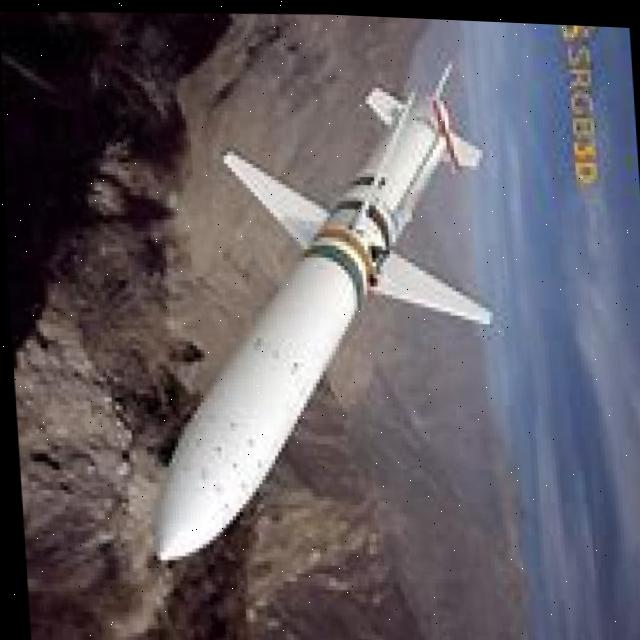missile: (121, 47, 518, 573)
